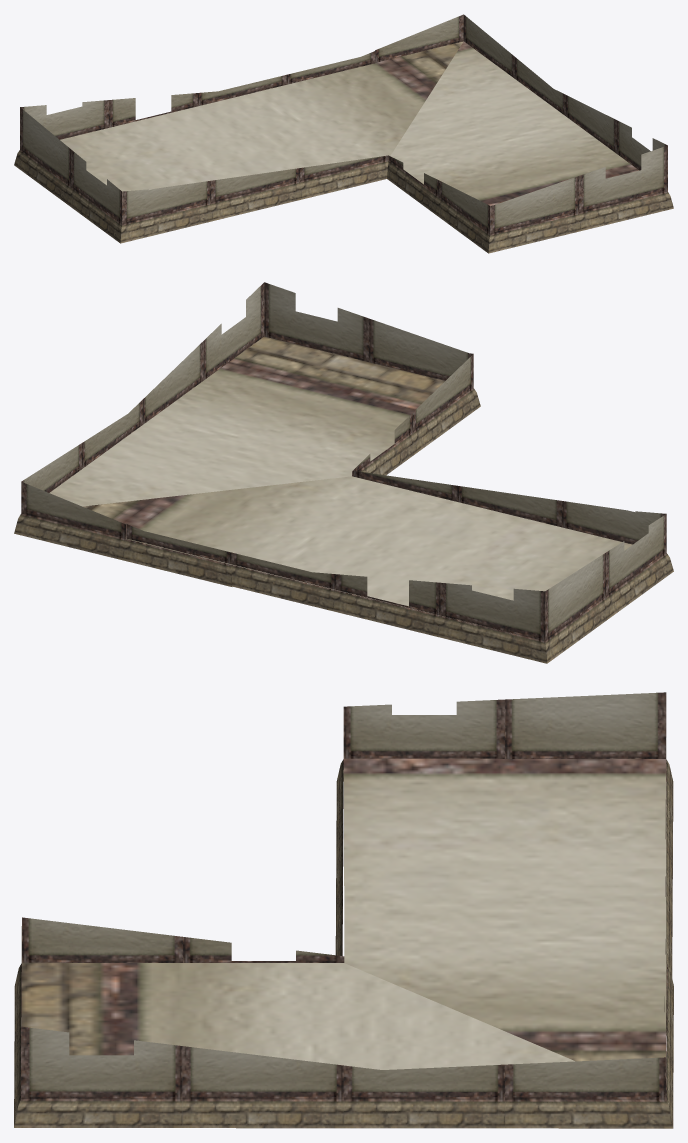
File: s44_b_house_4_5_destroyed_2.dae
The picture shows the model from 3 angles, top to bottom: view 1: azimuth 30°, elevation 25°; view 2: azimuth 150°, elevation 25°; view 3: azimuth 270°, elevation 25°; orthographic projection. The views are drawn at different scales.
Parts seen in each view (by area): view 1: Untitled; view 2: Untitled; view 3: Untitled.
Part boxes in pixels (x1,y1,x2,y2): Untitled: (14, 14, 673, 253); Untitled: (14, 282, 673, 663); Untitled: (14, 692, 673, 1128).
Bounding box in the file's own units: 122 × 98.23 × 16.14.
Materials: 1 (1 with a texture image).
